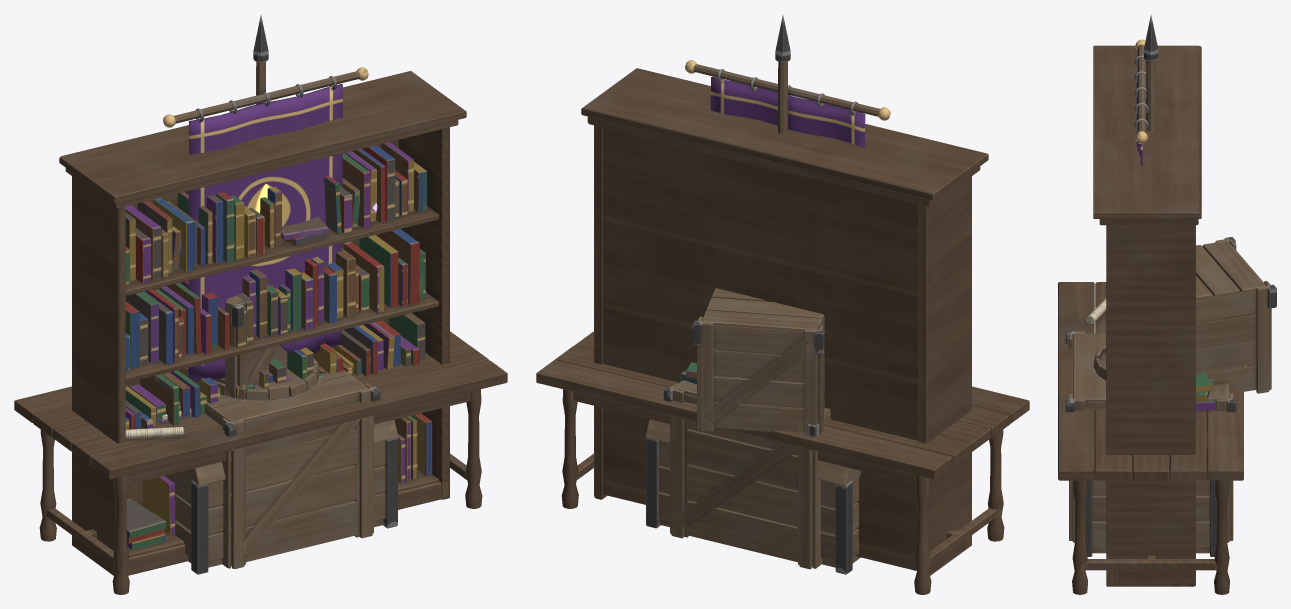
File: Market.gltf
3 views of the same model, side by side, from view 1: azimuth 30°, elevation 25°; view 2: azimuth 150°, elevation 25°; view 3: azimuth 270°, elevation 25° (orthographic). The views are drawn at different scales.
Parts seen in each view (by area): view 1: Bookshelf, CrateStack, ReadingTable, Banner, StashChest, Barrel_A; view 2: Bookshelf, CrateStack, ReadingTable, Banner, StashChest; view 3: Bookshelf, ReadingTable, CrateStack, StashChest, Banner, Barrel_A.
Part boxes in pixels (x1=…): Bookshelf: x1=59, y1=71, x2=466, y2=575; CrateStack: x1=178, y1=285, x2=380, y2=568; ReadingTable: x1=14, y1=331, x2=507, y2=594; Banner: x1=163, y1=15, x2=368, y2=381; StashChest: x1=164, y1=419, x2=397, y2=574; Barrel_A: x1=213, y1=358, x2=321, y2=401; Bookshelf: x1=581, y1=68, x2=988, y2=575; CrateStack: x1=663, y1=288, x2=830, y2=569; ReadingTable: x1=536, y1=331, x2=1029, y2=594; Banner: x1=685, y1=15, x2=890, y2=147; StashChest: x1=645, y1=419, x2=860, y2=574; Bookshelf: x1=1093, y1=45, x2=1201, y2=586; ReadingTable: x1=1058, y1=282, x2=1243, y2=594; CrateStack: x1=1065, y1=237, x2=1276, y2=542; StashChest: x1=1085, y1=432, x2=1216, y2=556; Banner: x1=1134, y1=14, x2=1158, y2=165; Barrel_A: x1=1093, y1=345, x2=1106, y2=380.
Size of the model in its own units: 2.4 by 3.02 by 1.17.
12 materials, 12 textured.
